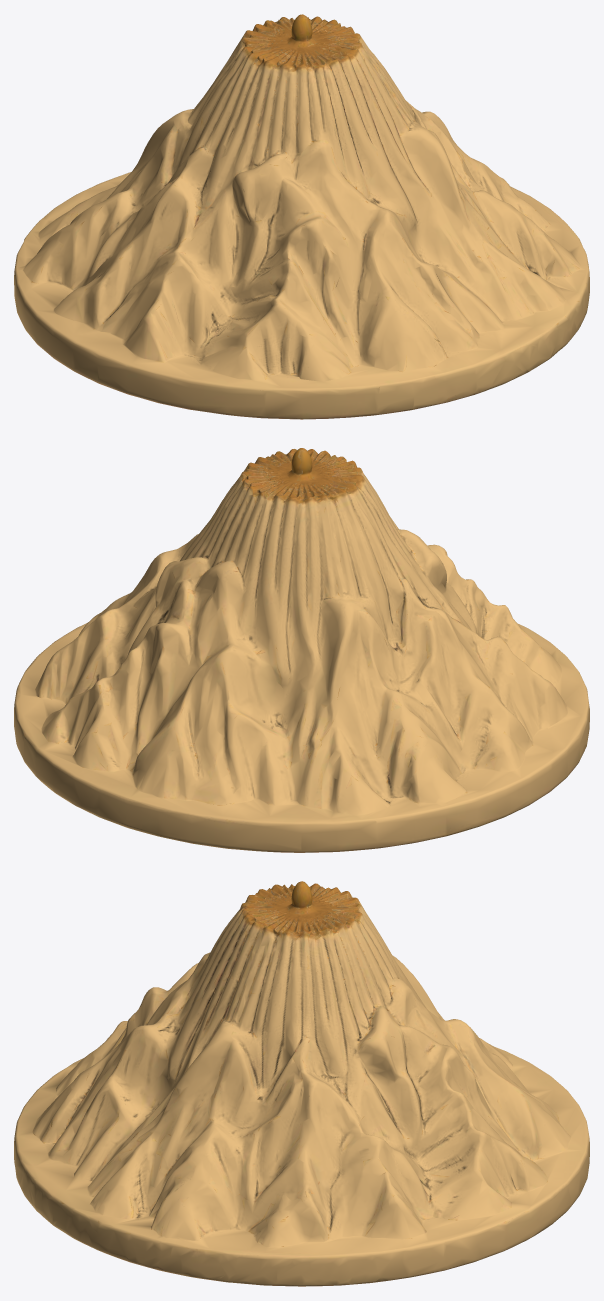
File: kilimanjaro.glb
3 views of the same model, one above another, from view 1: azimuth 30°, elevation 25°; view 2: azimuth 150°, elevation 25°; view 3: azimuth 270°, elevation 25° (orthographic).
Visible parts, largest first — view 1: Mesh_0; view 2: Mesh_0; view 3: Mesh_0.
Boxes of the visible parts, x1,y1,x2,y2 form: Mesh_0: (14, 14, 589, 419); Mesh_0: (14, 448, 589, 852); Mesh_0: (14, 881, 589, 1286).
Bounding box in the file's own units: 1.9 × 1.04 × 1.9.
Materials: 1 (1 with a texture image).
